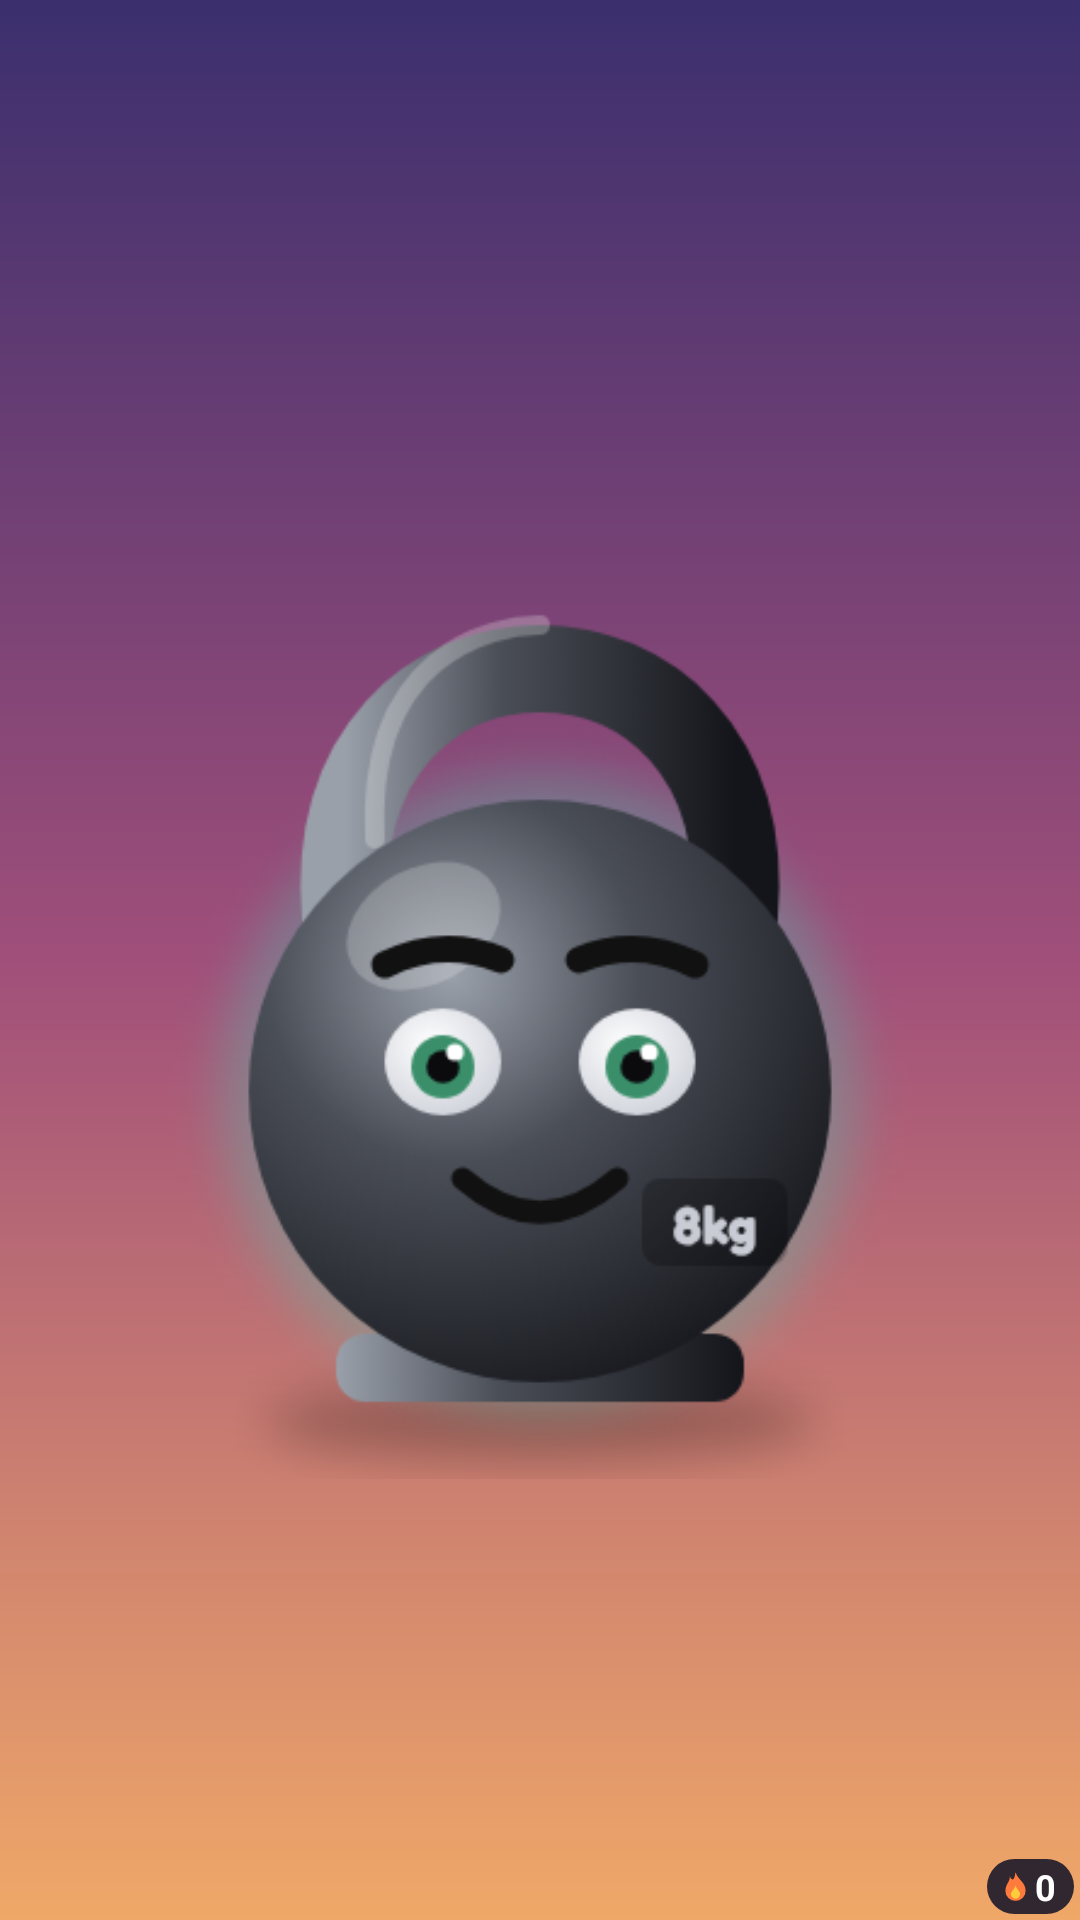

Where icons sit on this 1080 × 1920 app screen, as (x1=x1, y1=y1, x2=x2, y2=y2):
flame: (x1=1005, y1=1872, x2=1026, y2=1901)
